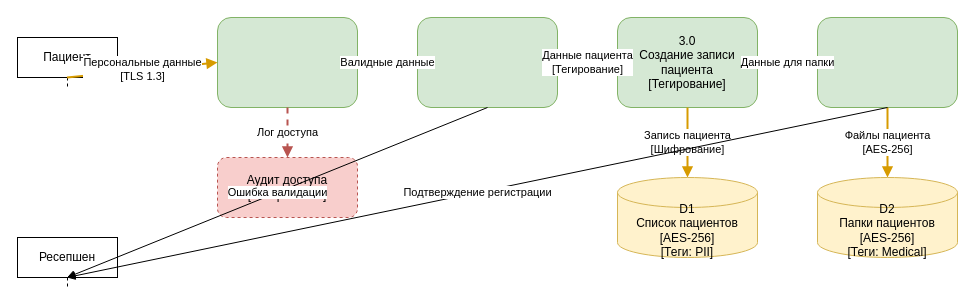
Image size: 975x305. Some labels were removed from this diagram. Here are the shapes that lost their labels. From the top down, the centre of each, then its label:
(x=287, y=62): 1.0 Приём персональных данных [TLS 1.3]
(x=487, y=62): 2.0 Валидация данных [RBAC]
(x=887, y=62): 4.0 Создание папки пациента [Шифрование]
